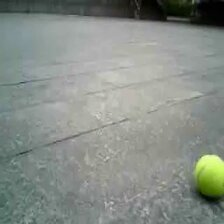tennis: (193, 155, 224, 196)
